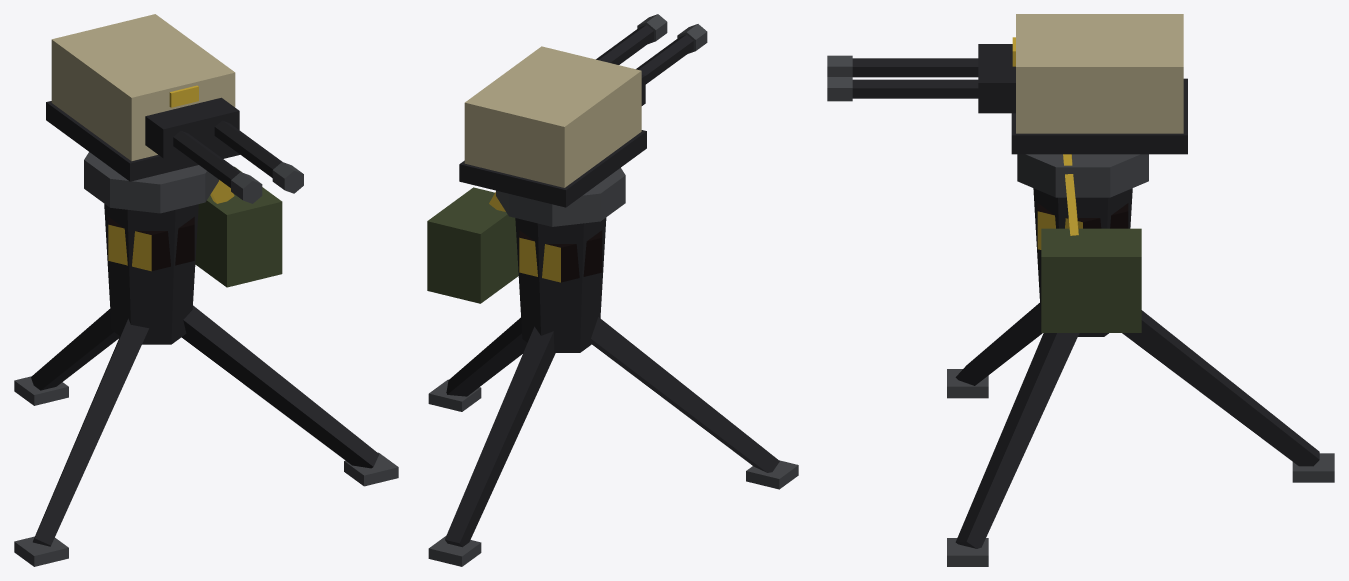
Rendered from ai_sentry.glb.
The picture shows the model from 3 angles, left to right: view 1: azimuth 30°, elevation 25°; view 2: azimuth 150°, elevation 25°; view 3: azimuth 270°, elevation 25°; orthographic projection. The views are drawn at different scales.
Visible parts, largest first — view 1: base, gun; view 2: base, gun; view 3: base, gun.
Boxes of the visible parts, x1,y1,x2,y2 form: base: (14, 152, 398, 566); gun: (46, 14, 303, 203); base: (427, 168, 798, 566); gun: (459, 14, 707, 207); base: (947, 154, 1334, 566); gun: (827, 14, 1187, 154).
Size of the model in its own units: 1.05 by 1.14 by 1.21.
